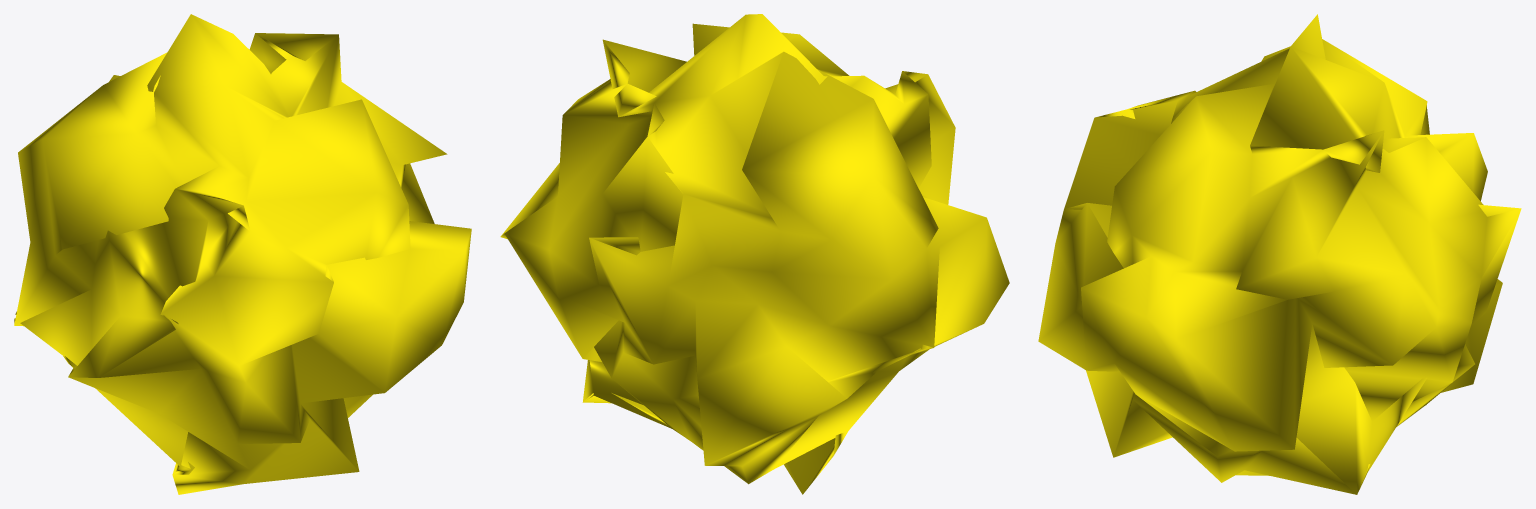
Rendered from oro.fbx.
The picture shows the model from 3 angles, left to right: view 1: azimuth 30°, elevation 25°; view 2: azimuth 150°, elevation 25°; view 3: azimuth 270°, elevation 25°; orthographic projection. The views are drawn at different scales.
Visible parts, largest first — view 1: Icosphere; view 2: Icosphere; view 3: Icosphere.
Part boxes in pixels (x1,y1,x2,y2): Icosphere: (14,14,471,494); Icosphere: (500,14,1009,494); Icosphere: (1038,14,1521,494).
Bounding box in the file's own units: 229 × 262 × 242.
